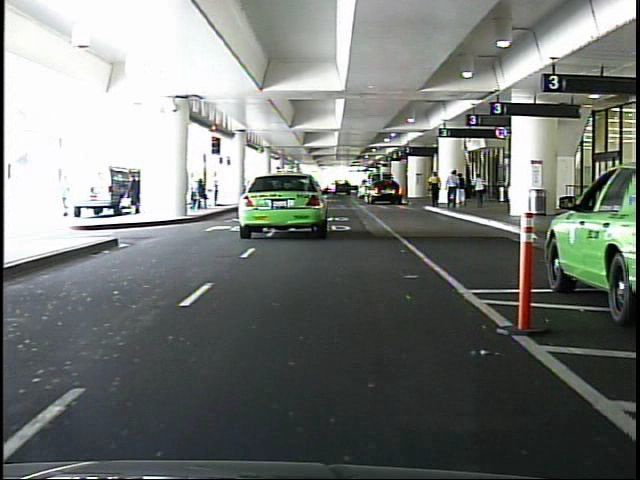person: (470, 168, 491, 215), (444, 164, 462, 211), (426, 166, 445, 210), (129, 170, 143, 216), (457, 171, 469, 212)
